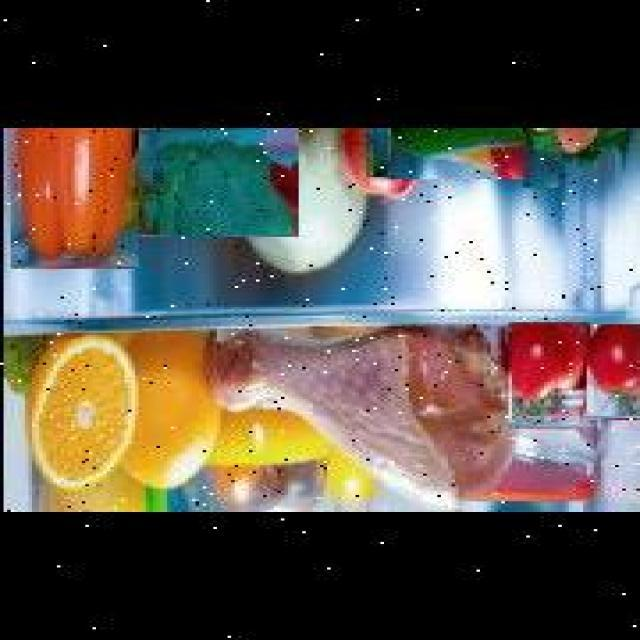bell_pepper: (7, 128, 135, 267)
broccoli: (135, 128, 295, 234)
carrot: (519, 128, 555, 188)
cucumber: (363, 128, 526, 177), (384, 128, 522, 179)
tomato: (505, 322, 587, 427), (583, 324, 637, 418)
